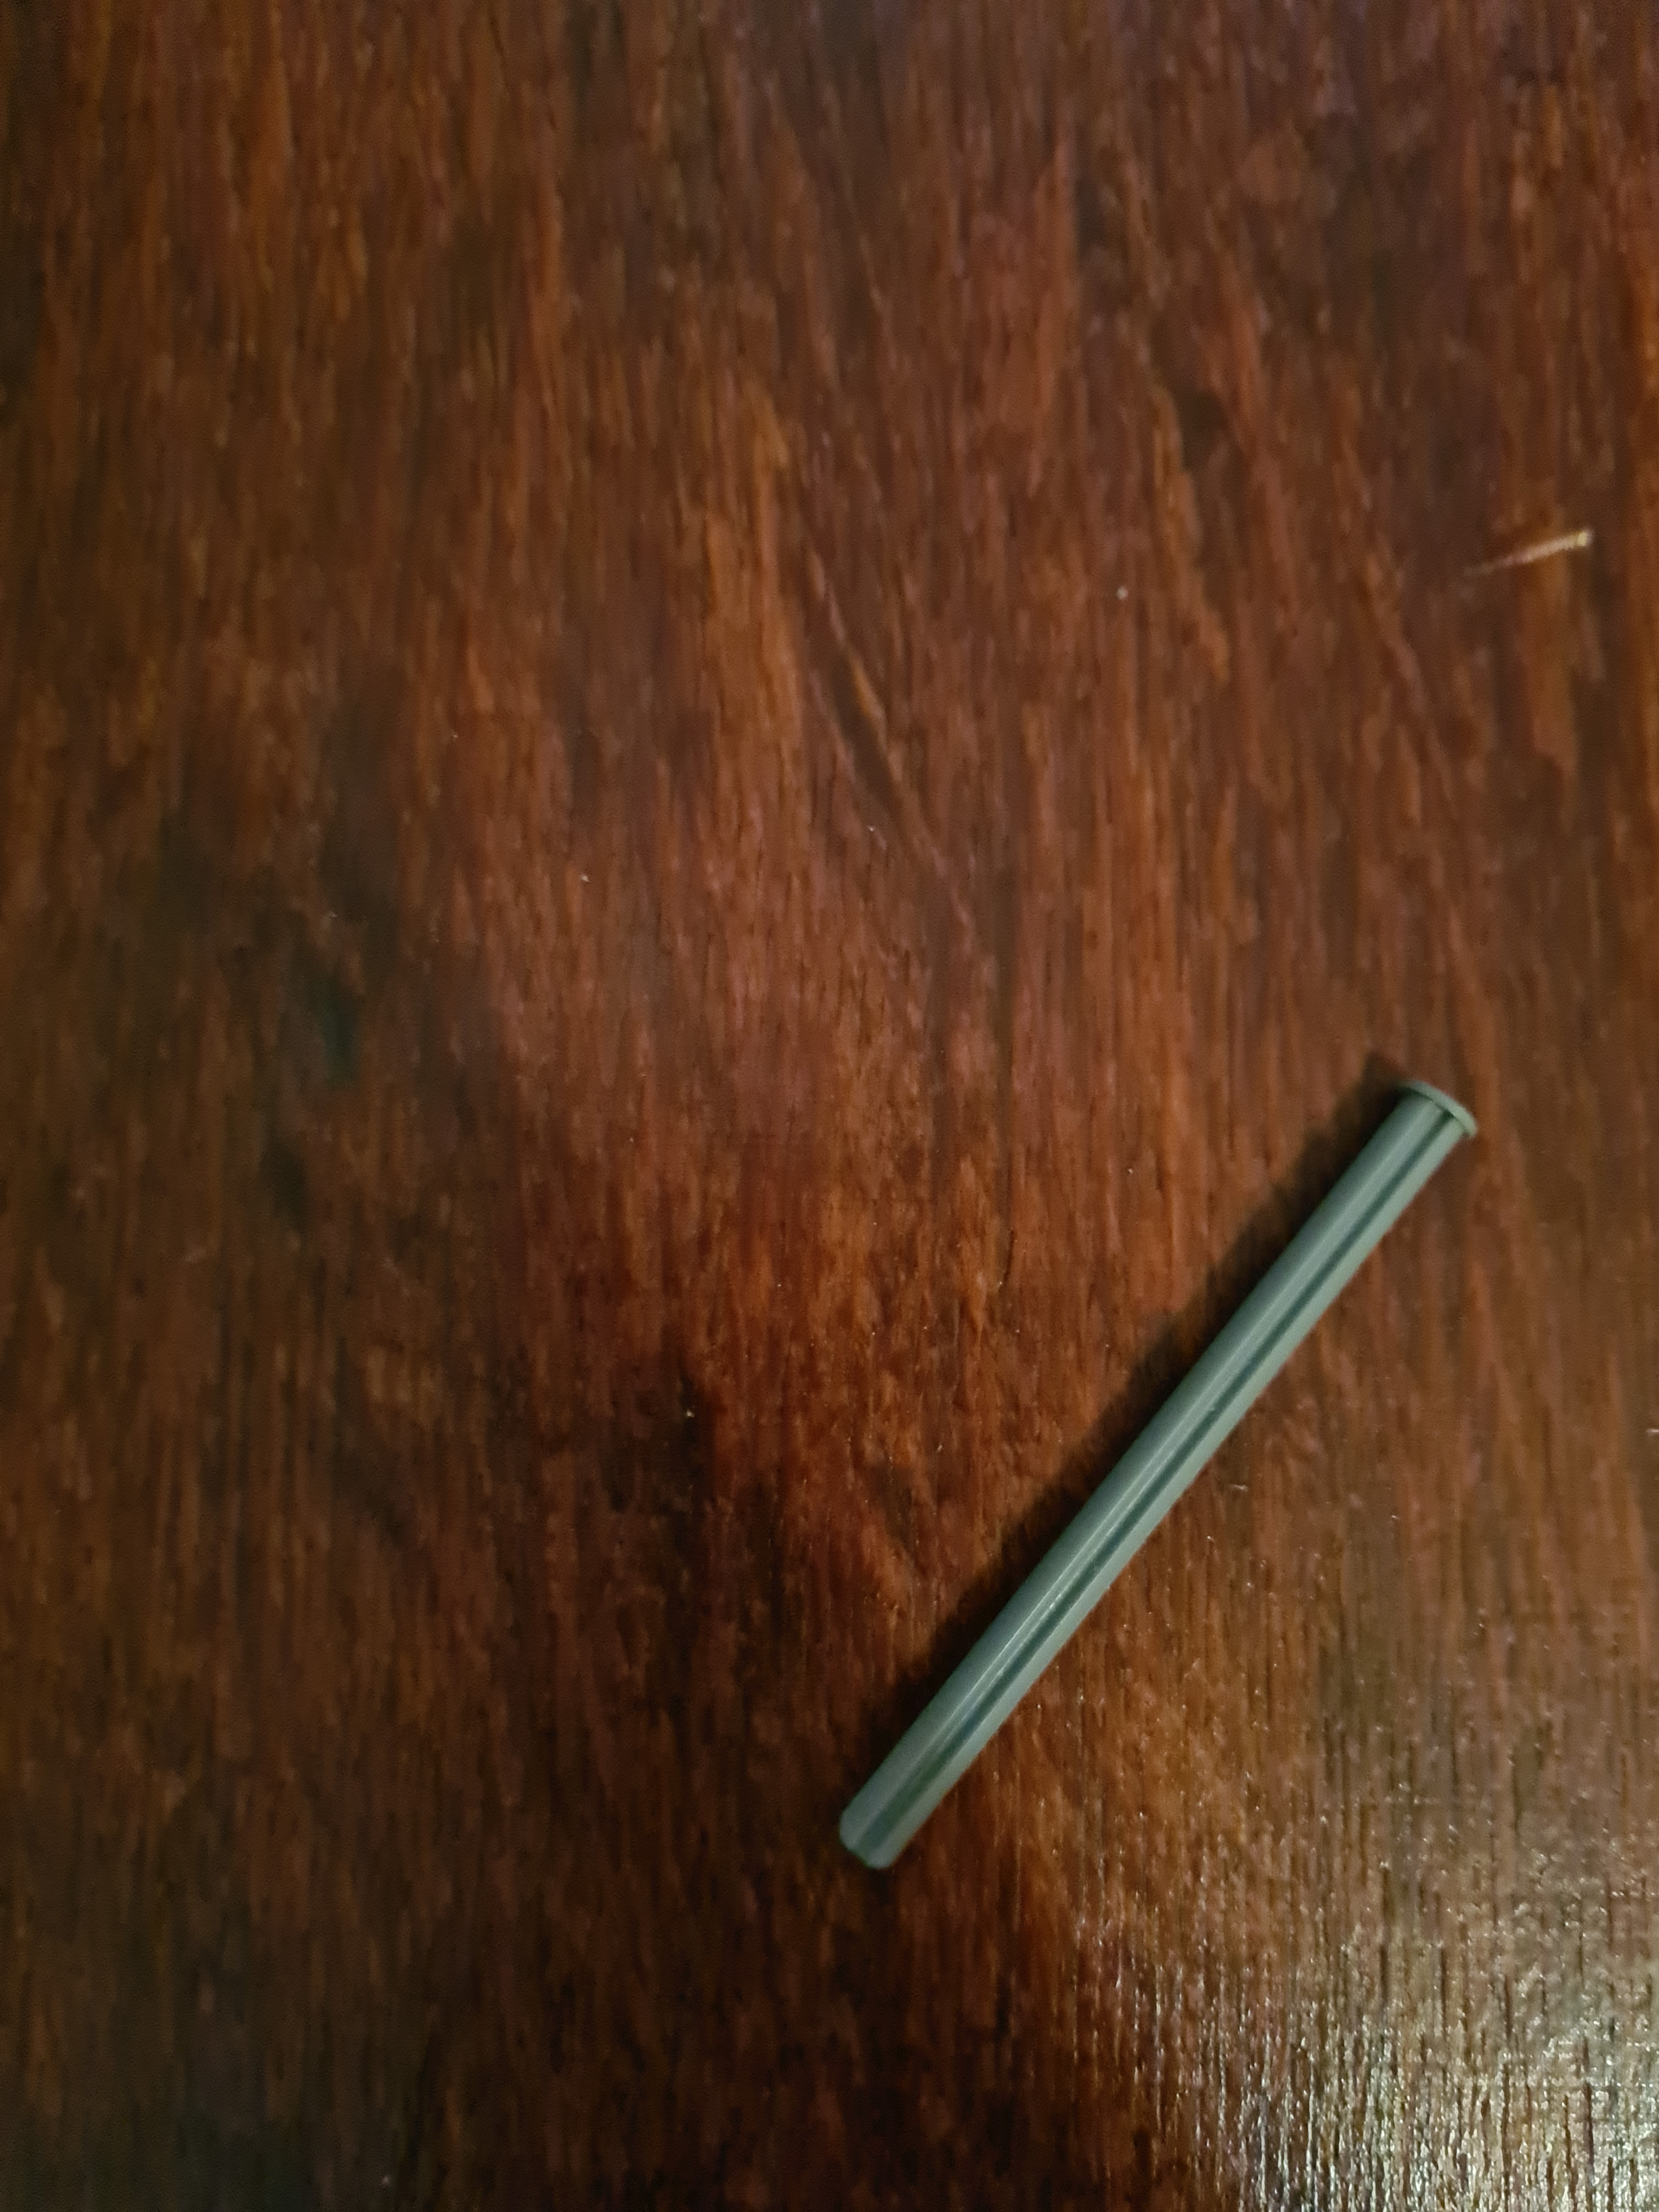Grau_lang: (800, 1052, 1499, 1902)
